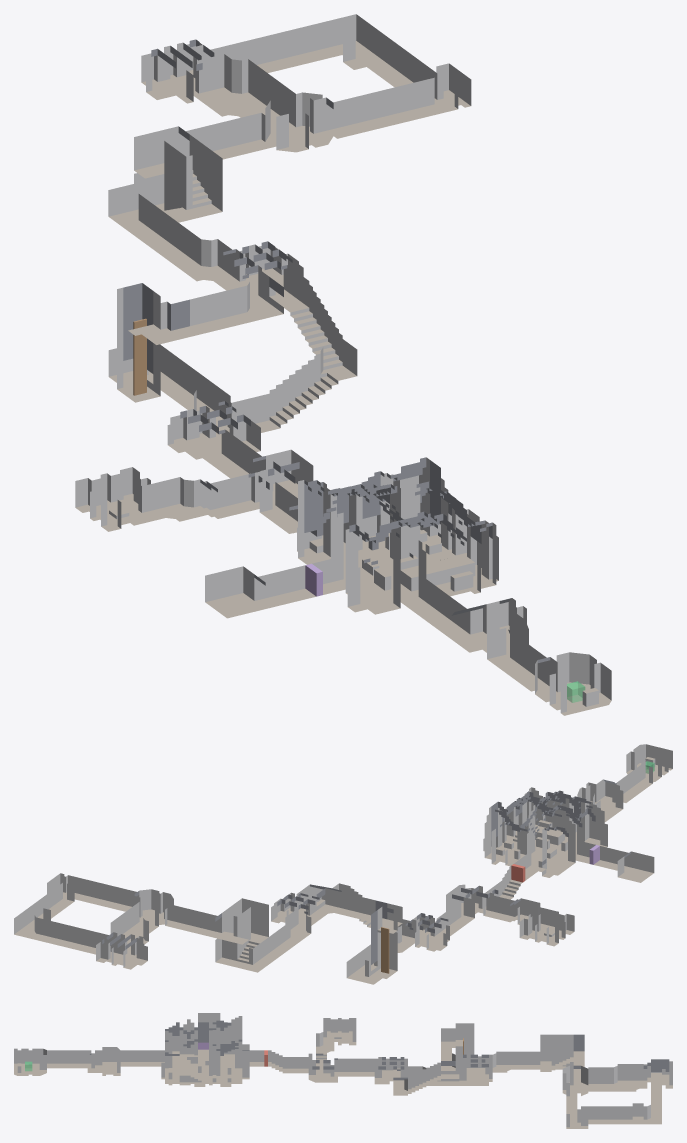
File: underground_2.glb
3 renders of one model, top to bottom at view 1: azimuth 30°, elevation 25°; view 2: azimuth 150°, elevation 25°; view 3: azimuth 270°, elevation 25°, orthographic. The views are drawn at different scales.
Parts seen in each view (by area): view 1: level_geometry; view 2: level_geometry, ladder_0; view 3: level_geometry.
Boxes of the visible parts, x1,y1,x2,y2 form: level_geometry: (75, 14, 611, 715); level_geometry: (14, 744, 672, 984); ladder_0: (381, 927, 389, 973); level_geometry: (14, 1013, 672, 1128).
Bounding box in the file's own units: 96 × 21 × 179.
